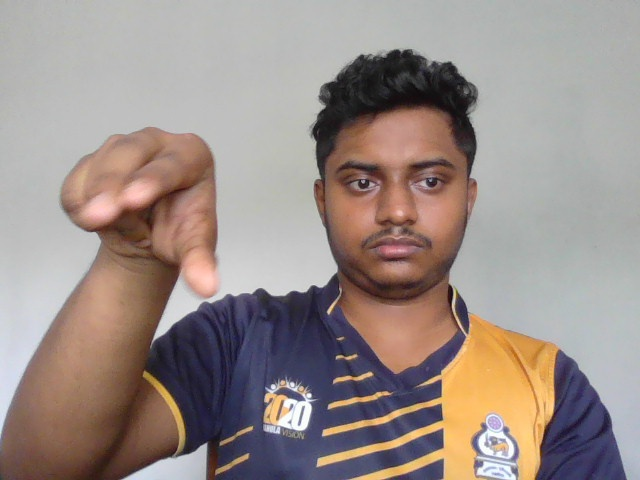No: (59, 119, 228, 298)
